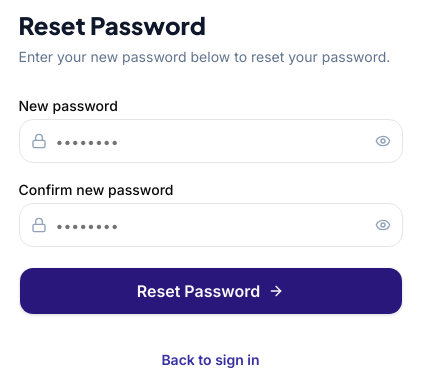
Test case: ResetPasswordForm › Success state › shows a success message after a successful reset
The width and height of the screenshot is (423, 385).
In the password field named "newPassword": (210, 141) top-left (18, 119), bottom-right (402, 163), type "Password123!"
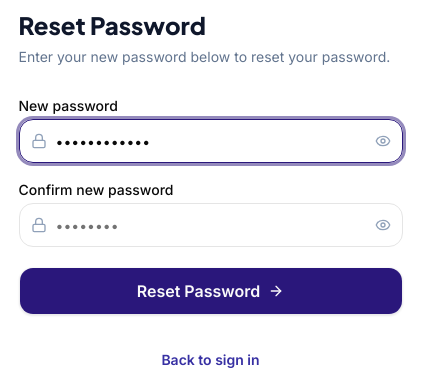
In the password field named "confirmPassword": (210, 225) top-left (18, 203), bottom-right (402, 247), type "Password123!"
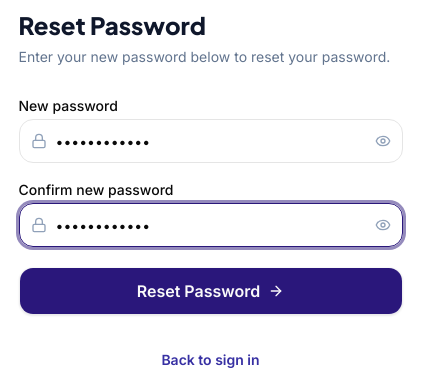
Click the button "Reset Password": (210, 291) top-left (18, 267), bottom-right (402, 315)
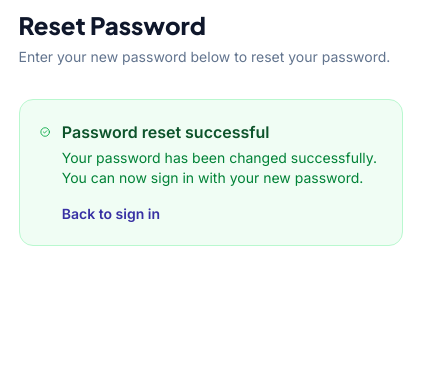
Expected: the message is shown, top-left (18, 99), bottom-right (402, 246)
